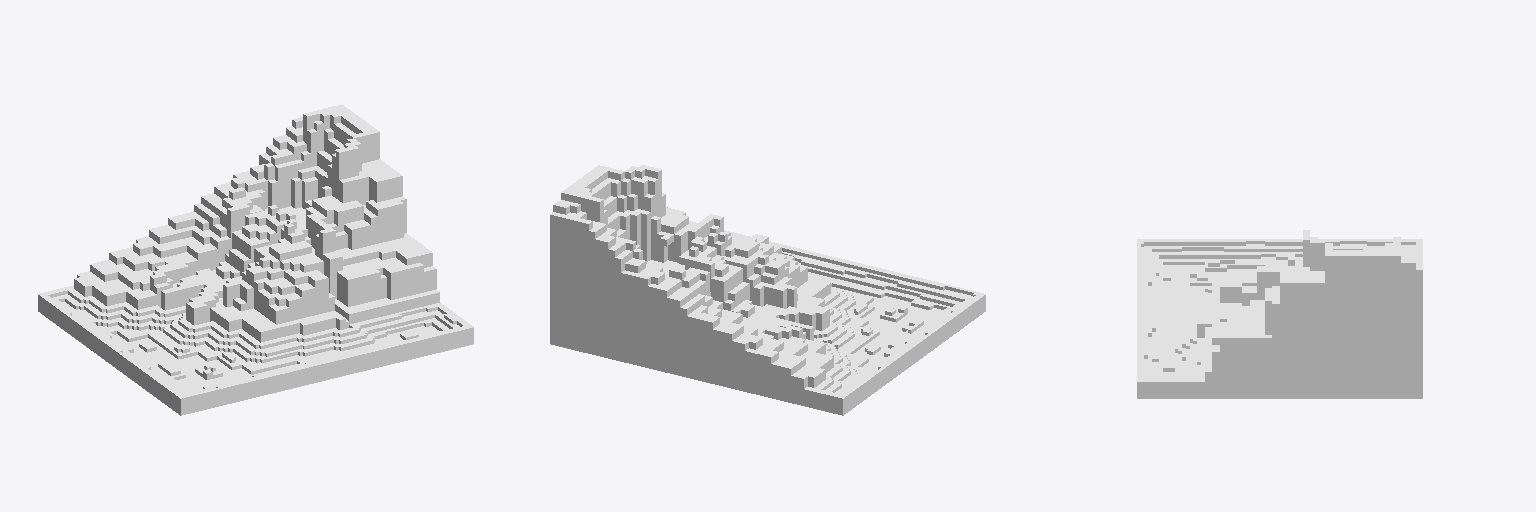
File: volcan_with_sand.obj
3 renders of one model, left to right at view 1: azimuth 30°, elevation 25°; view 2: azimuth 150°, elevation 25°; view 3: azimuth 270°, elevation 25°, orthographic.
Visible parts, largest first — view 1: volcan_with_sand; view 2: volcan_with_sand; view 3: volcan_with_sand.
Part boxes in pixels (bbox=[...]): volcan_with_sand: bbox=[38, 104, 473, 415]; volcan_with_sand: bbox=[550, 165, 985, 415]; volcan_with_sand: bbox=[1137, 230, 1422, 398].
Bounding box in the file's own units: 90 × 42 × 76.